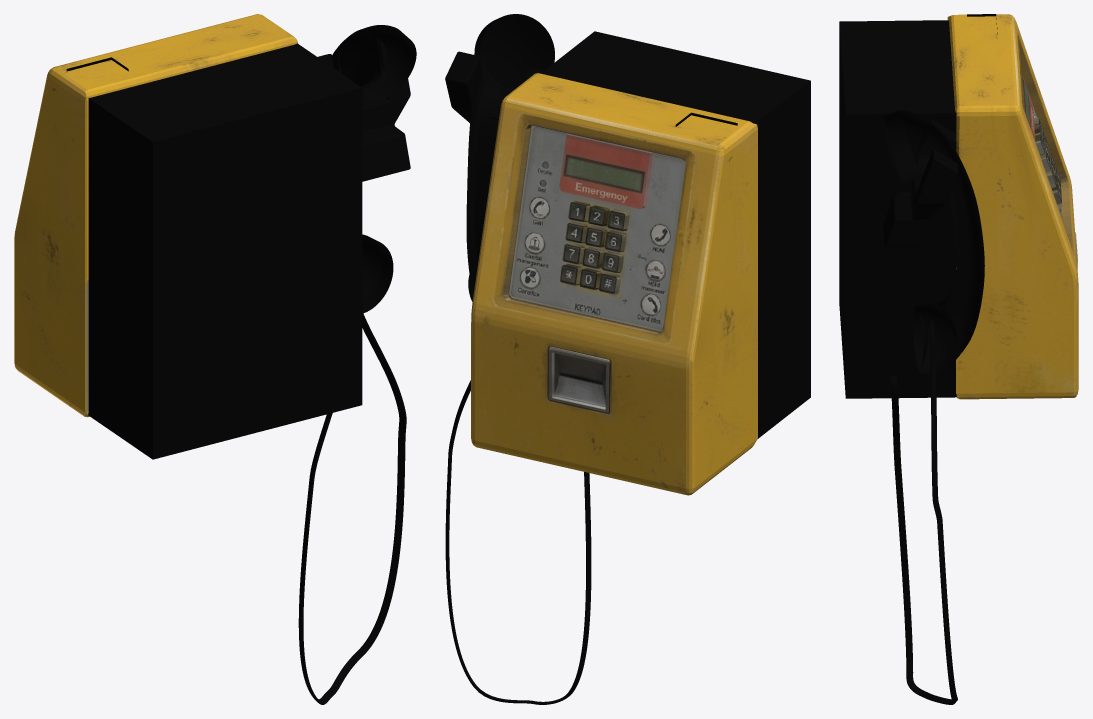
The model's file is coinbox.glb.
3 views of the same model, side by side, from view 1: azimuth 30°, elevation 25°; view 2: azimuth 150°, elevation 25°; view 3: azimuth 270°, elevation 25° (orthographic). The views are drawn at different scales.
Parts seen in each view (by area): view 1: BezierCurve; view 2: BezierCurve; view 3: BezierCurve.
Boxes of the visible parts, bbox=[...] form: BezierCurve: bbox=[14, 14, 416, 704]; BezierCurve: bbox=[445, 14, 810, 704]; BezierCurve: bbox=[839, 14, 1078, 704].
Bounding box in the file's own units: 2.67 × 5.36 × 1.93.
5 materials, 1 textured.
